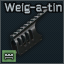M1911A1 Weigand Weig-a-tinny rail mount: (0, 0, 64, 64)
